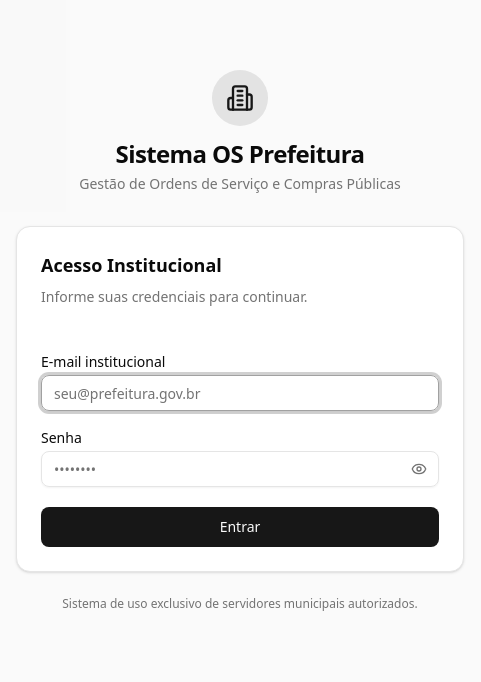
Test: LoginPage — US-001 › Erros retornados pela API › exibe alerta "Conta bloqueada" para resposta HTTP 423 — US-001 Cenário 3
In the field labelled "E-mail institucional": (240, 393) [41,375,439,411], type "servidor@prefeitura.gov.br"
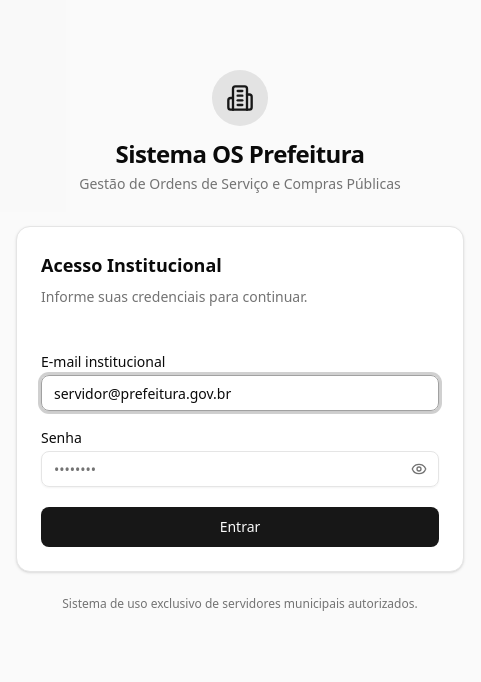
In the password field labelled "Senha": (240, 469) [41,451,439,487], type "Senha123"
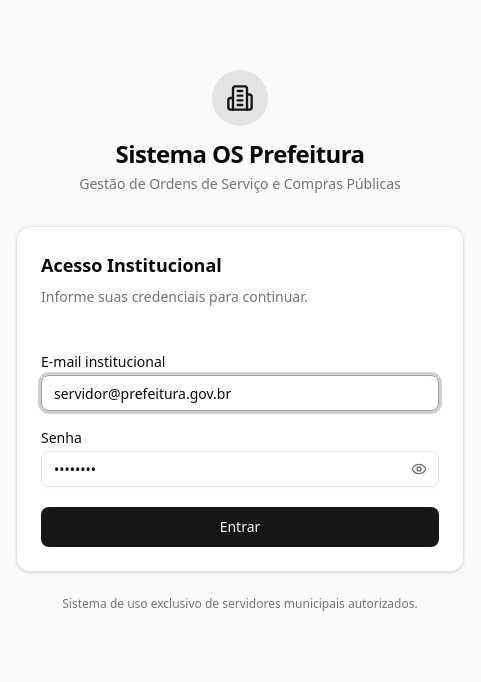
Click the button "Entrar": (240, 527) [41,507,439,547]
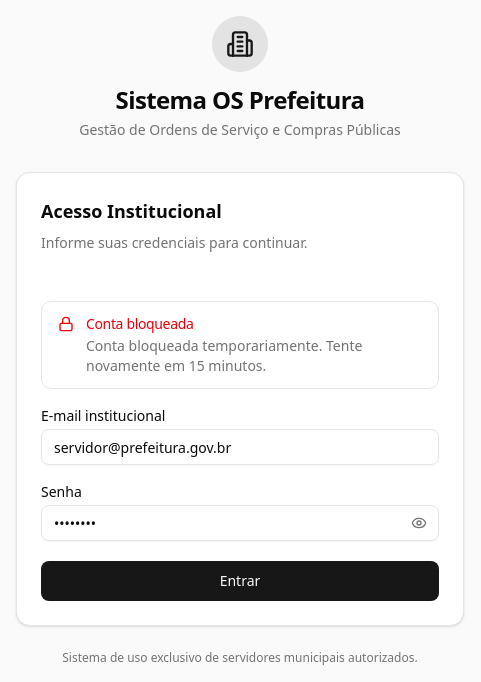
Expected: the heading "Conta bloqueada" is shown, [86,314,193,333]
